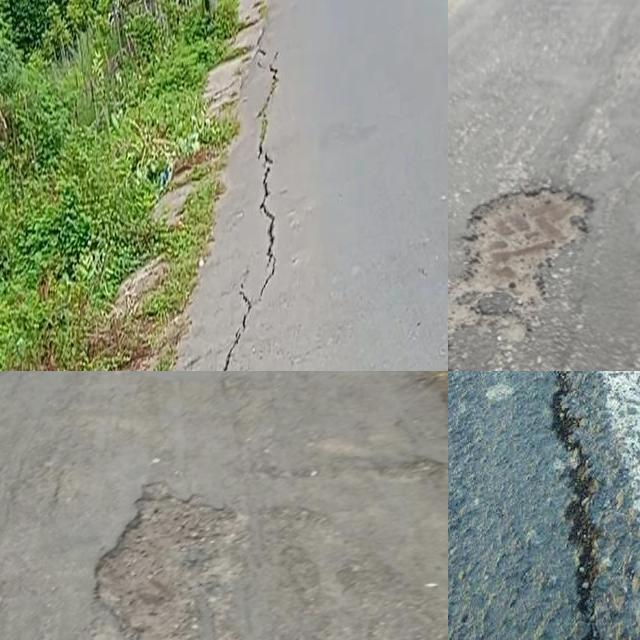Lubang: (88, 485, 261, 640), (448, 189, 591, 353)
Memanjang: (206, 43, 288, 371), (538, 371, 636, 640)
